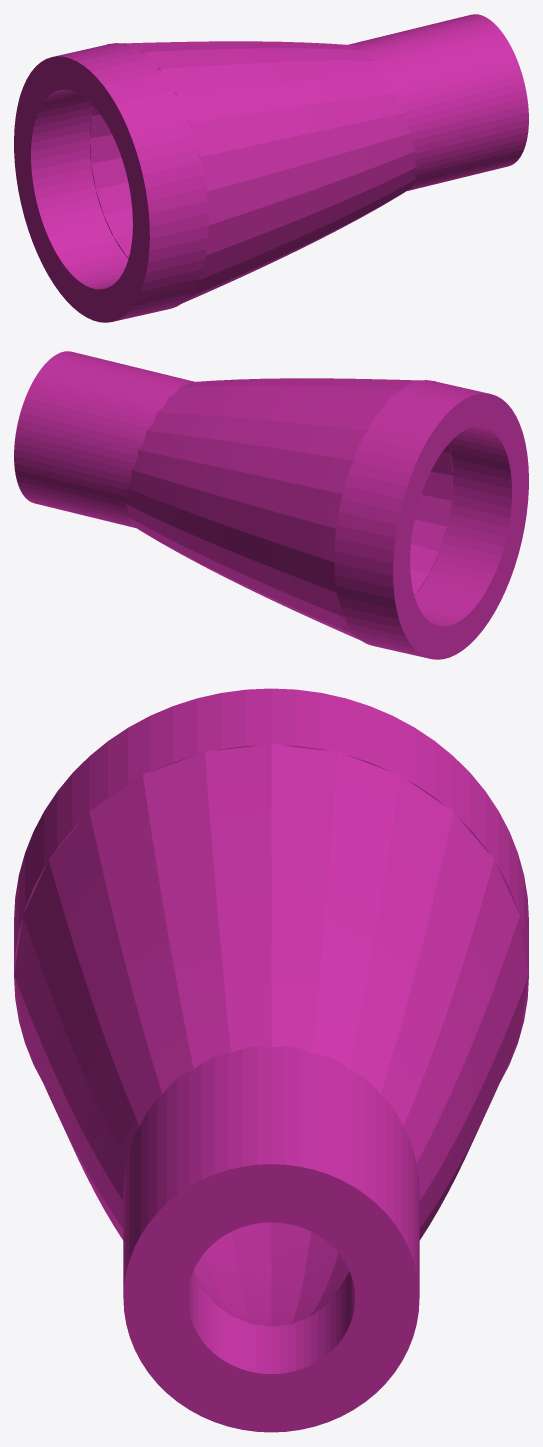
File: Câmara descontaminação do ar (tubular) - COVID-19 conector ambu-DN28.glb
3 renders of one model, top to bottom at view 1: azimuth 30°, elevation 25°; view 2: azimuth 150°, elevation 25°; view 3: azimuth 270°, elevation 25°, orthographic. The views are drawn at different scales.
Visible parts, largest first — view 1: Mesh_Mesh_head_geo.001_lambert2SG.001; view 2: Mesh_Mesh_head_geo.001_lambert2SG.001; view 3: Mesh_Mesh_head_geo.001_lambert2SG.001.
Boxes of the visible parts, box(x1,y1,x2,y2) form: Mesh_Mesh_head_geo.001_lambert2SG.001: box(14, 14, 528, 322); Mesh_Mesh_head_geo.001_lambert2SG.001: box(14, 351, 528, 659); Mesh_Mesh_head_geo.001_lambert2SG.001: box(14, 688, 528, 1432).
Bounding box in the file's own units: 69.7 × 40.17 × 40.
